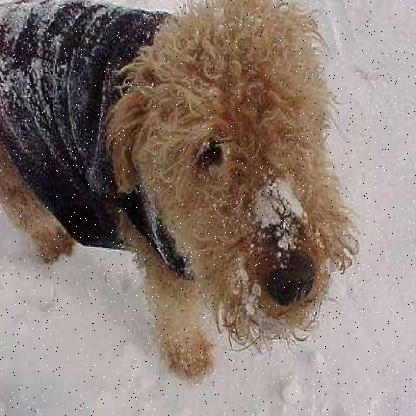dog: (78, 0, 354, 375)
